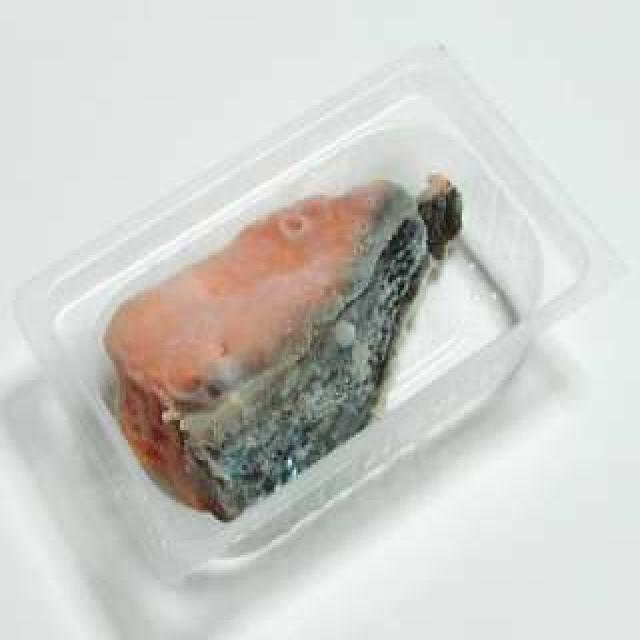熟制海鲜: (84, 145, 472, 475)
